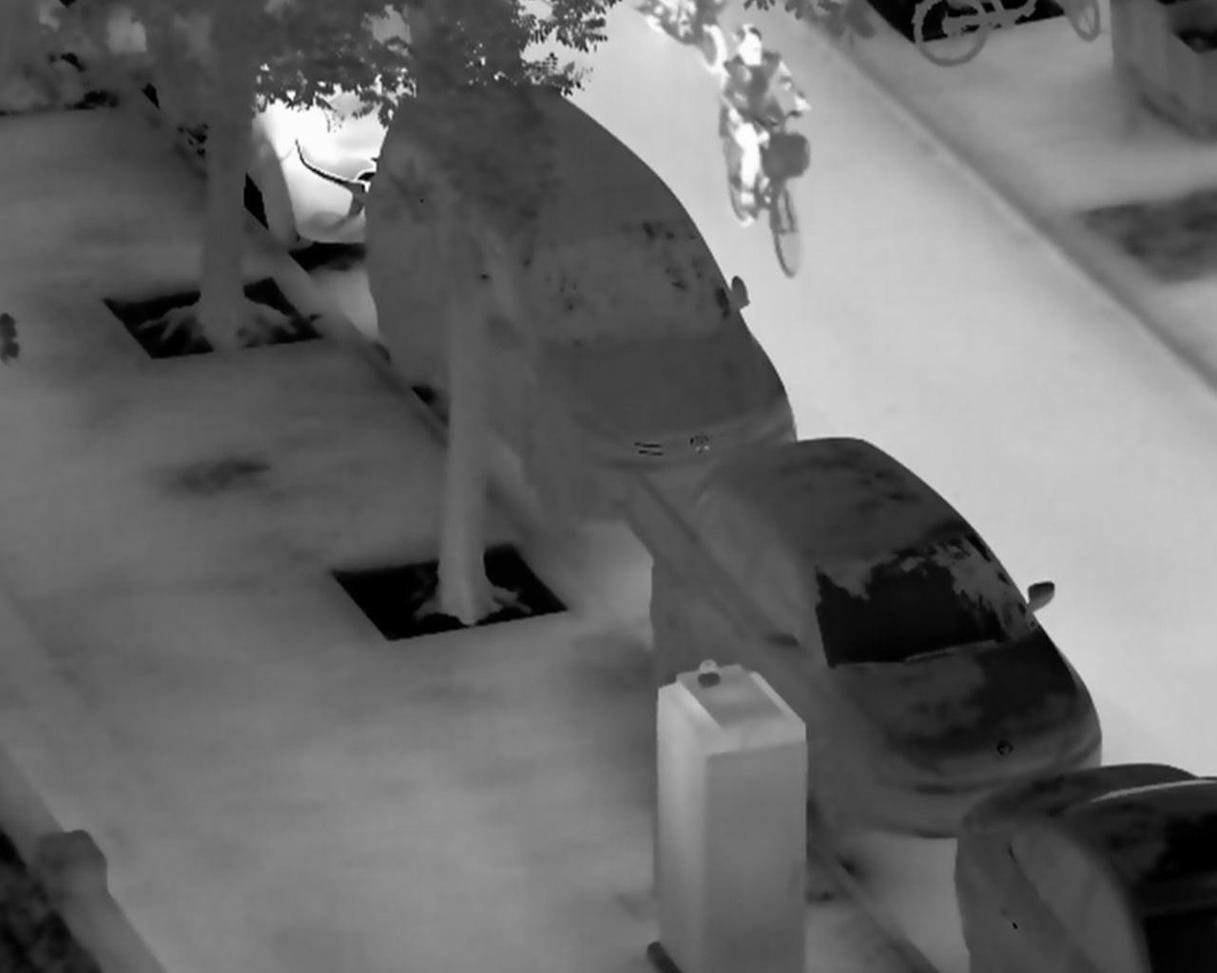person: (717, 23, 812, 217)
